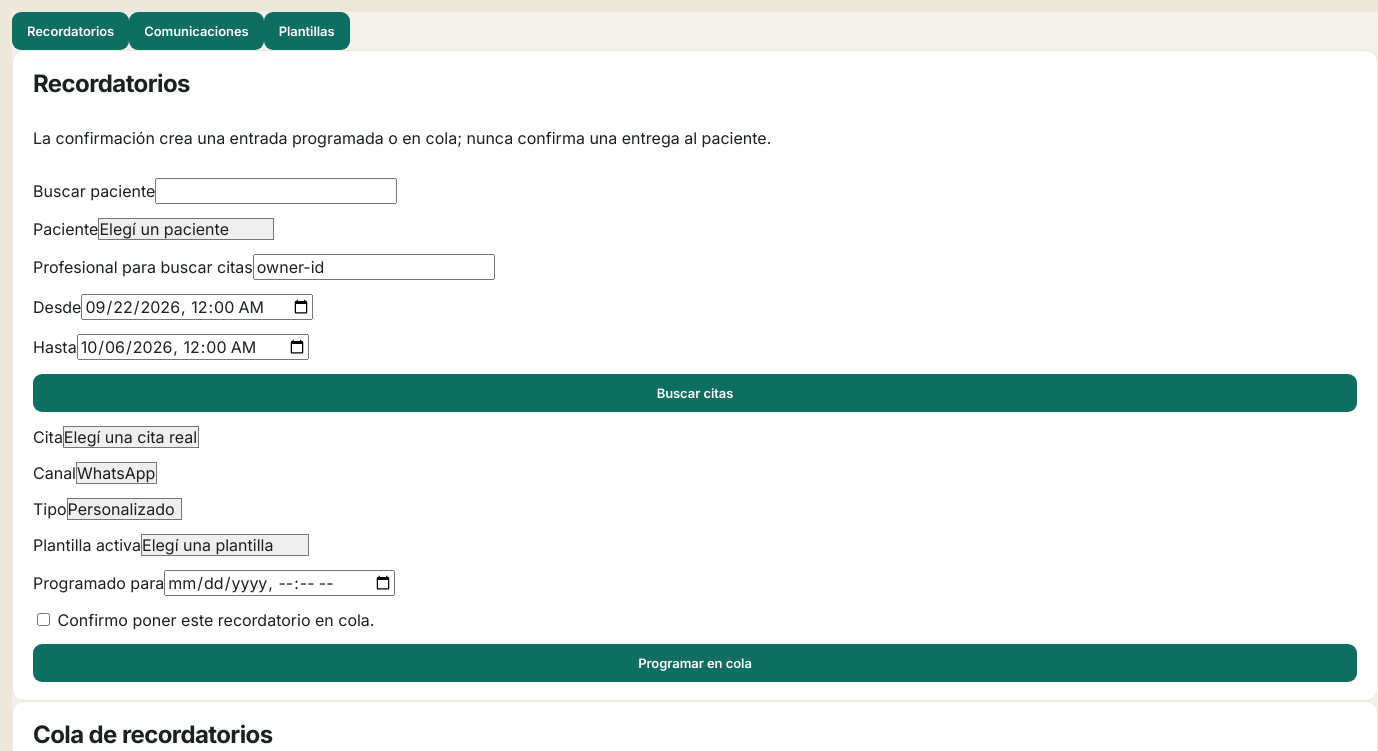
Test: RemindersPage communication access › retains a conflict error and blocks stale scheduling when authoritative refresh fails
The image size is (1378, 751).
Select "Ana Uno · expediente 1" in the dropdown labelled "Paciente". click: [186, 229]
box: [98,218,274,240]
Click the button "Buscar citas". click: [695, 393]
box: [33,374,1357,412]
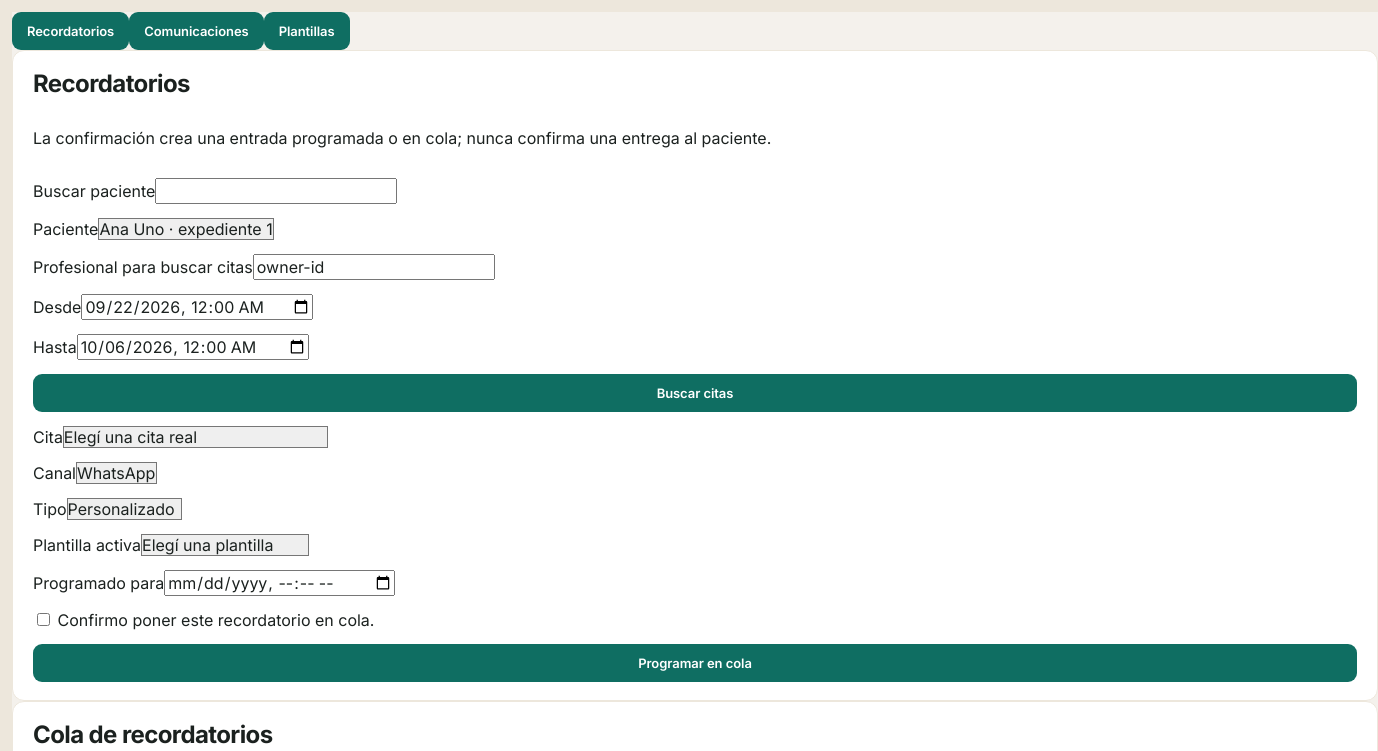
Select "2026-09-14T15:00:00Z · PENDING" in the dropdown labelled "Cita". click: [195, 437]
box: [63,426,328,448]
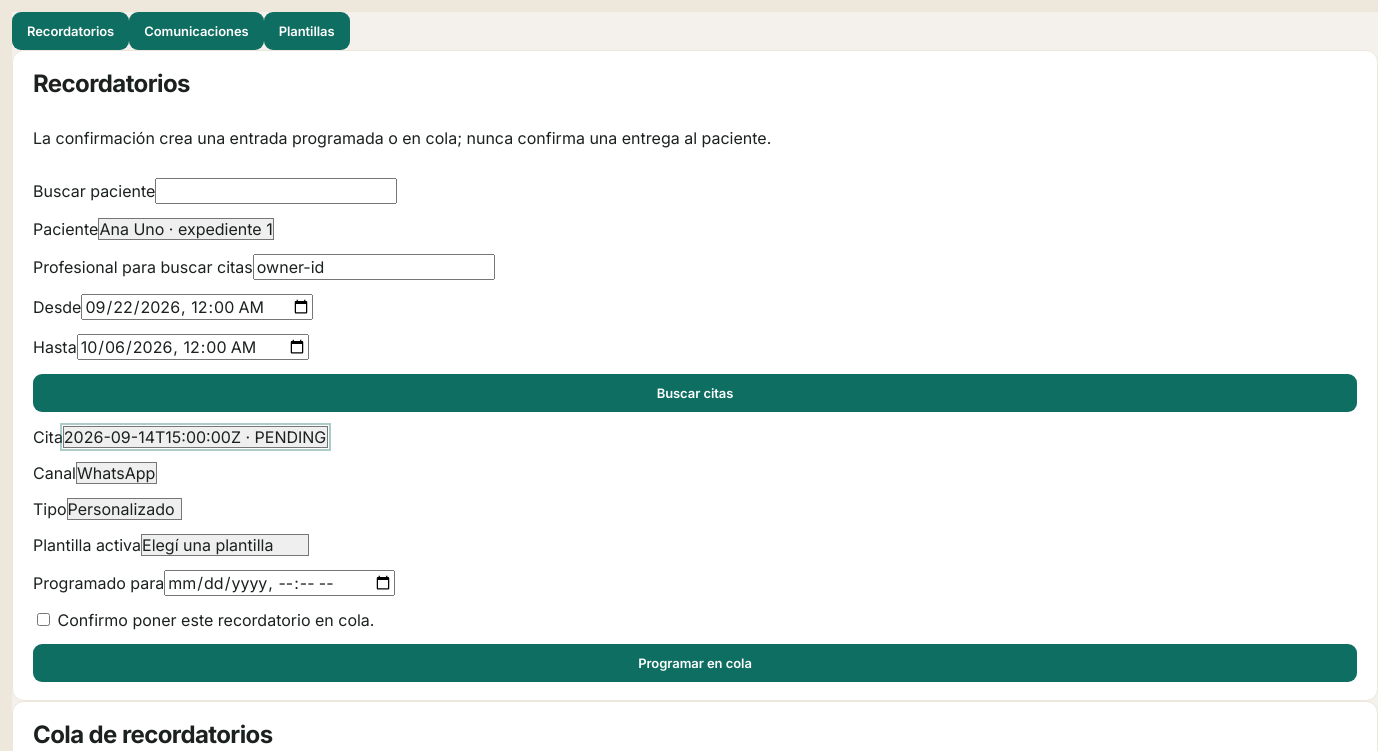
Select "REMINDER · versión 2" in the dropdown labelled "Plantilla activa". click: [225, 545]
box: [141,534,309,556]
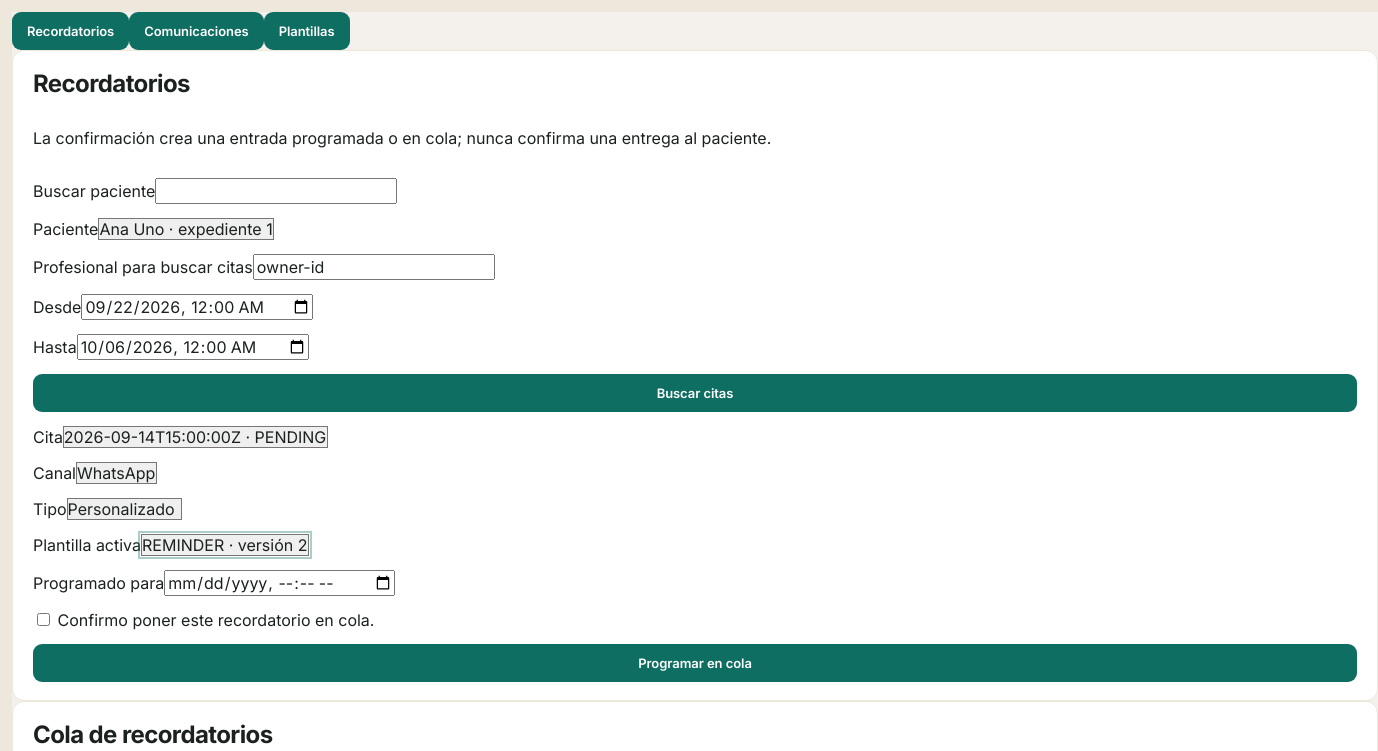
Type "2026-09-14T10:00" into the field labelled "Programado para". click: [280, 583]
box: [164,570,395,596]
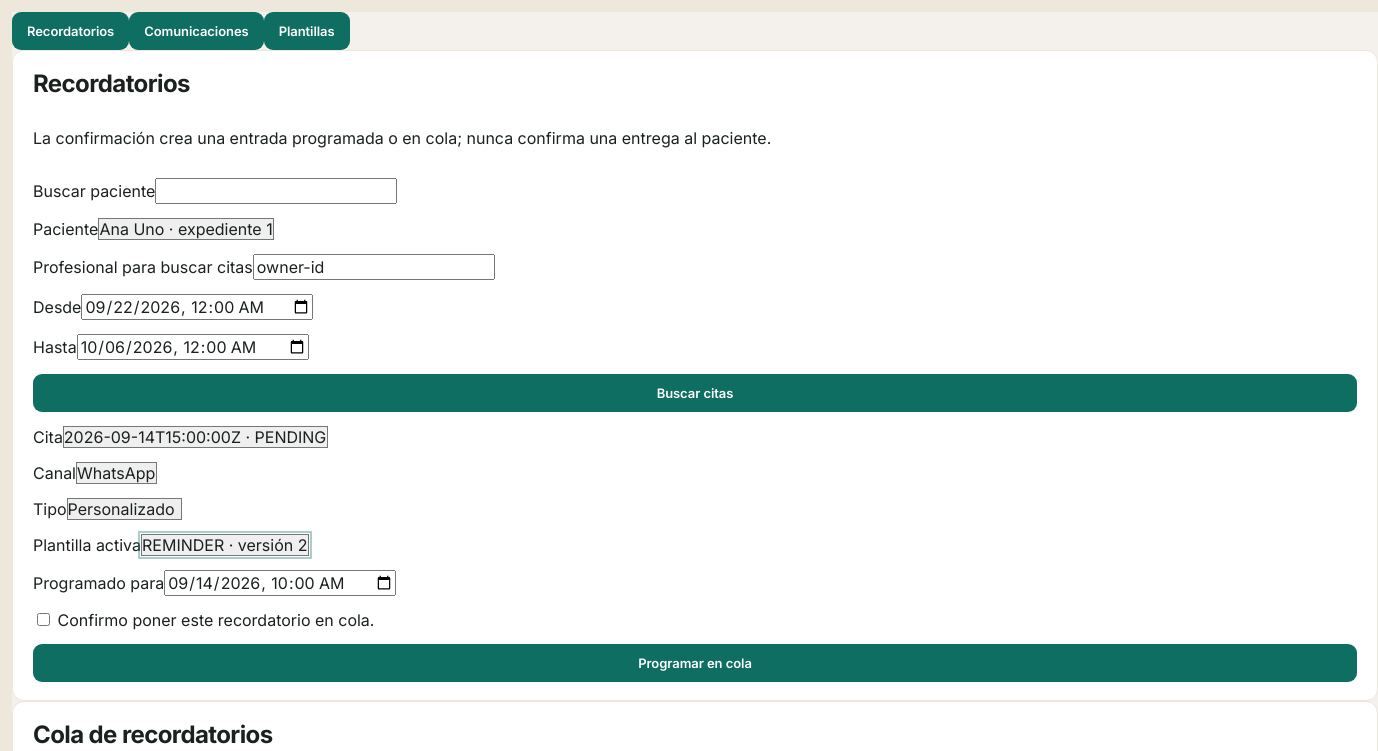
Click the checkbox labelled "Confirmo poner este recordatorio en cola.". click: [44, 620]
box: [37,613,50,626]
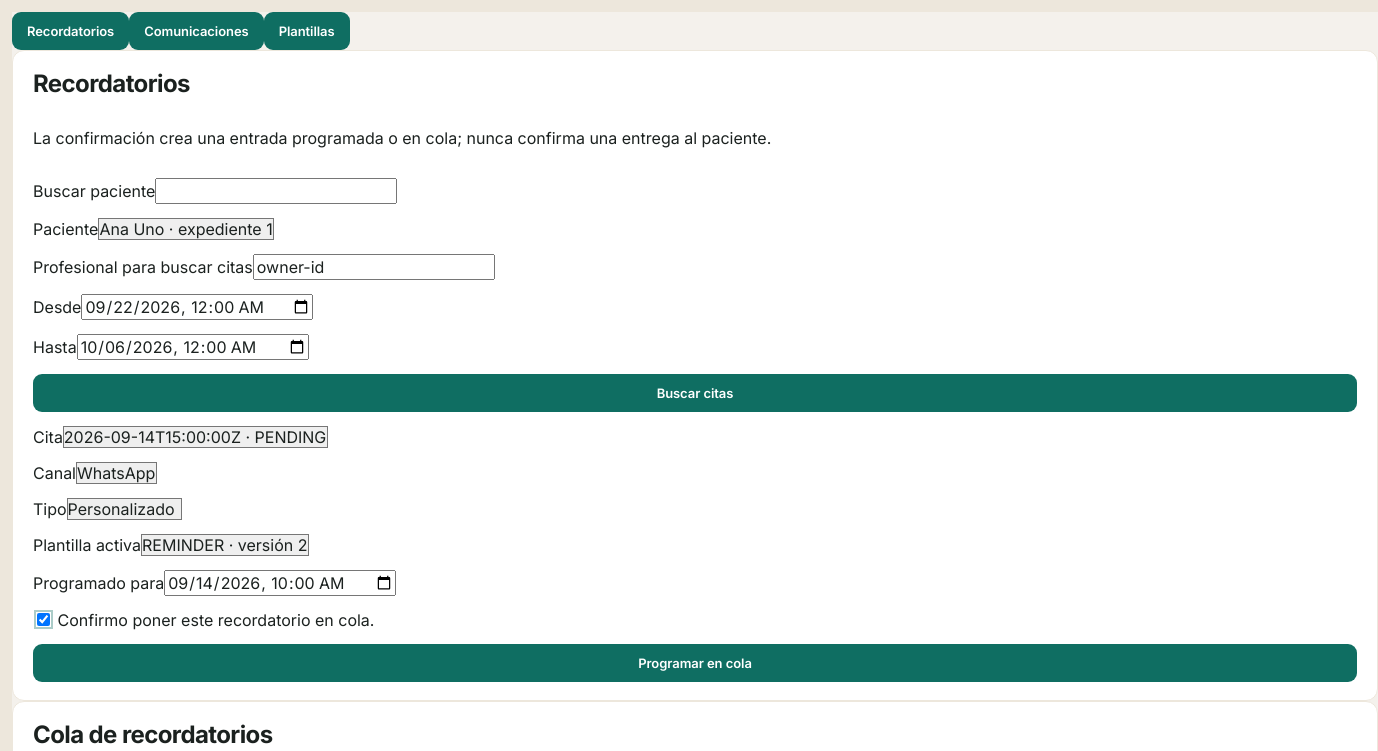
Click the button "Programar en cola". click: [695, 663]
box: [33,644,1357,682]
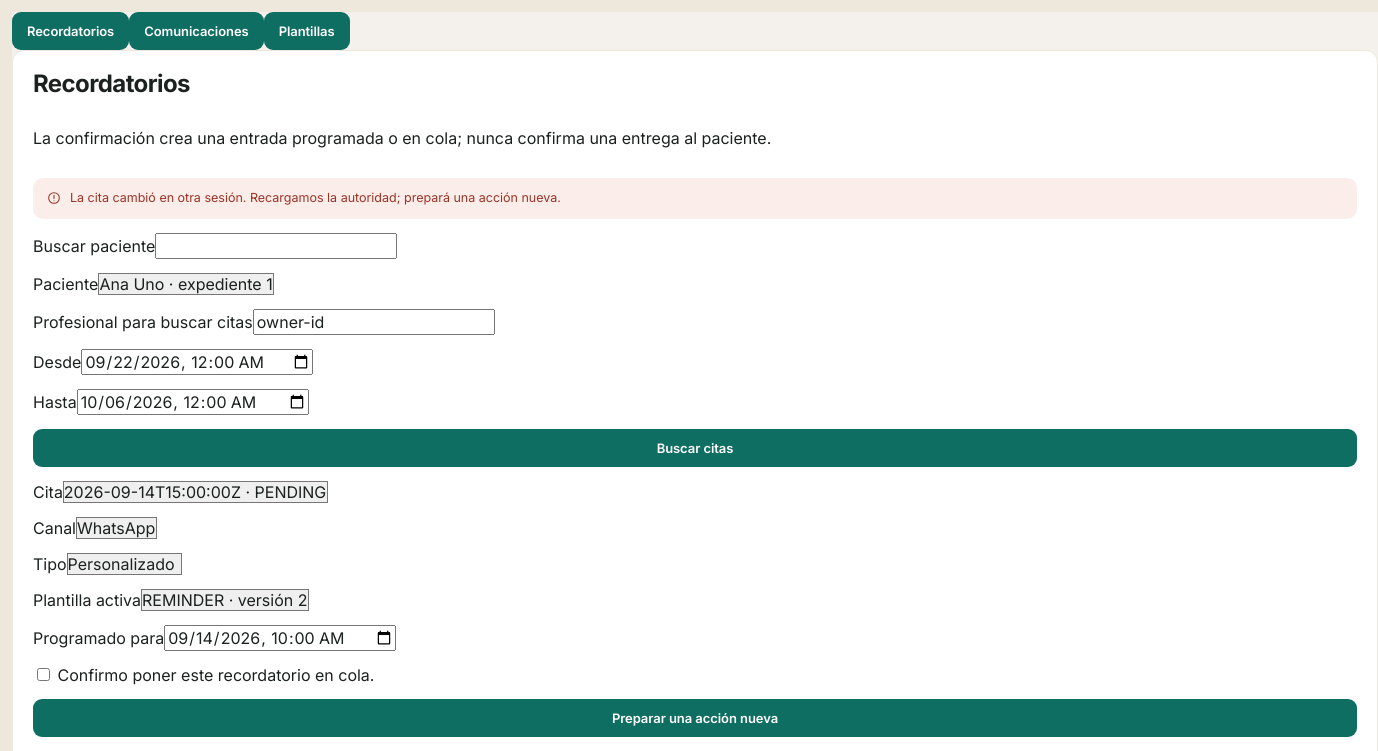
Check: the text "La cita cambió en otra sesión" is shown, box [70,190,561,205]
Check: the button "Preparar una acción nueva" is shown, box [33,699,1357,737]
